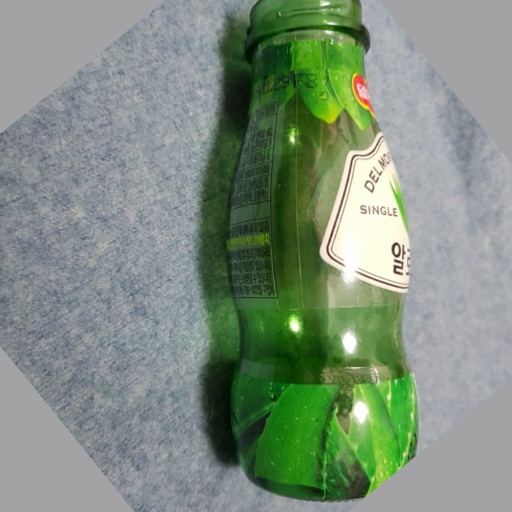Glass_4: (219, 1, 421, 506)
